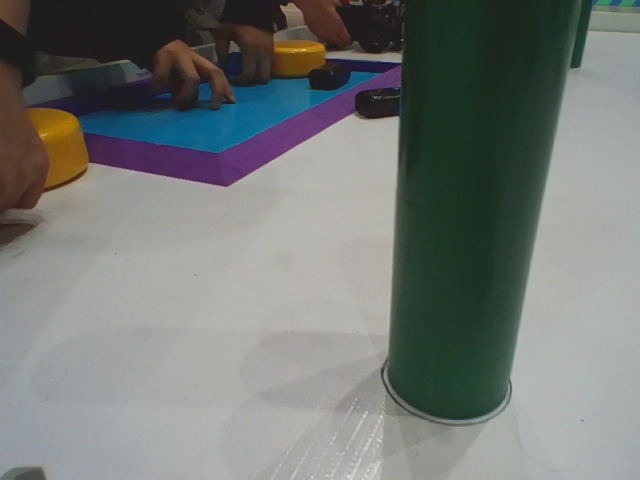black: (355, 80, 413, 118), (308, 64, 355, 90)
kuang: (19, 43, 420, 224)
yellow: (1, 98, 111, 214), (249, 38, 331, 74)
zhuzi: (377, 1, 575, 412), (560, 1, 601, 85)
